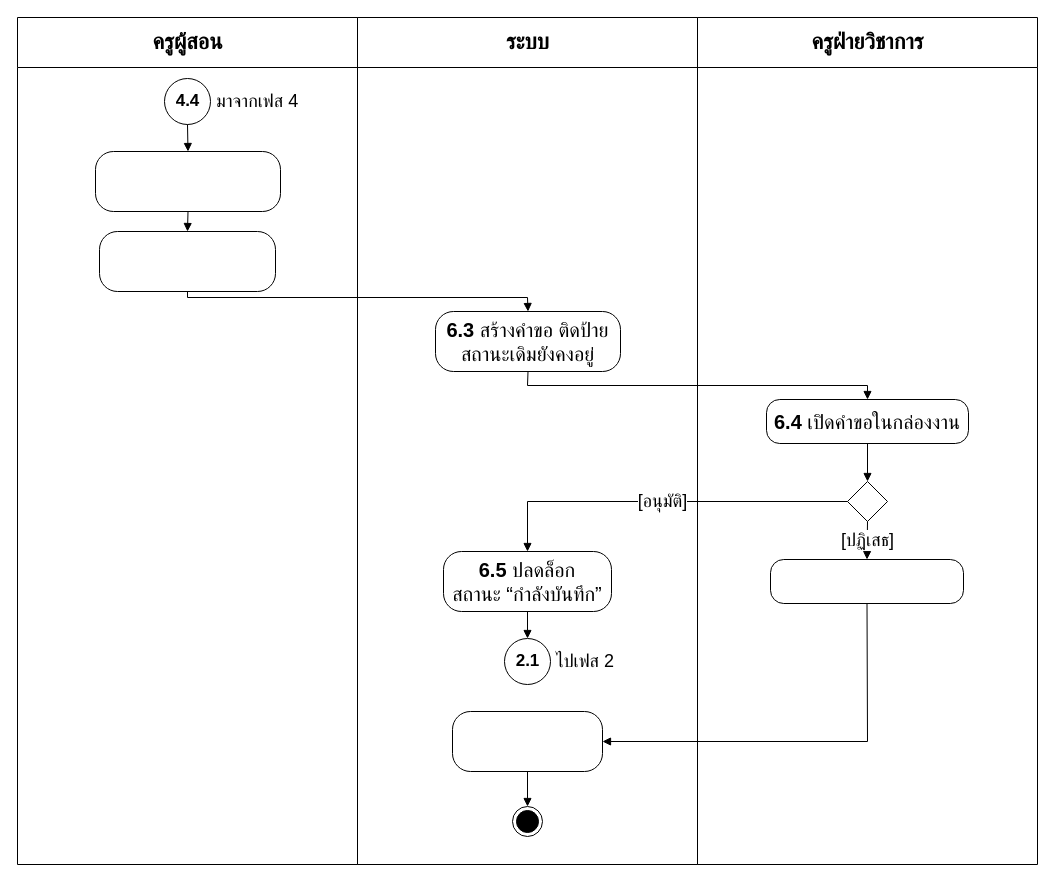
The diagram is 1055 pixels wide and 882 high, and some of its shapes have lost their labels. Here are the shapes that lost their labels. From the top down, the centre of each, then its label:
At (x=187, y=181): "6.1 เปิดห้องเรียนที่สอน ที่ถูกล็อก".
At (x=187, y=261): "6.2 กด “ขอปลดล็อก” และกรอกเหตุผล".
At (x=867, y=581): "6.6 กรอกเหตุผลที่ปฏิเสธ".
At (x=527, y=741): "6.7 คงสถานะเดิม แสดงเหตุผลให้ครู".
